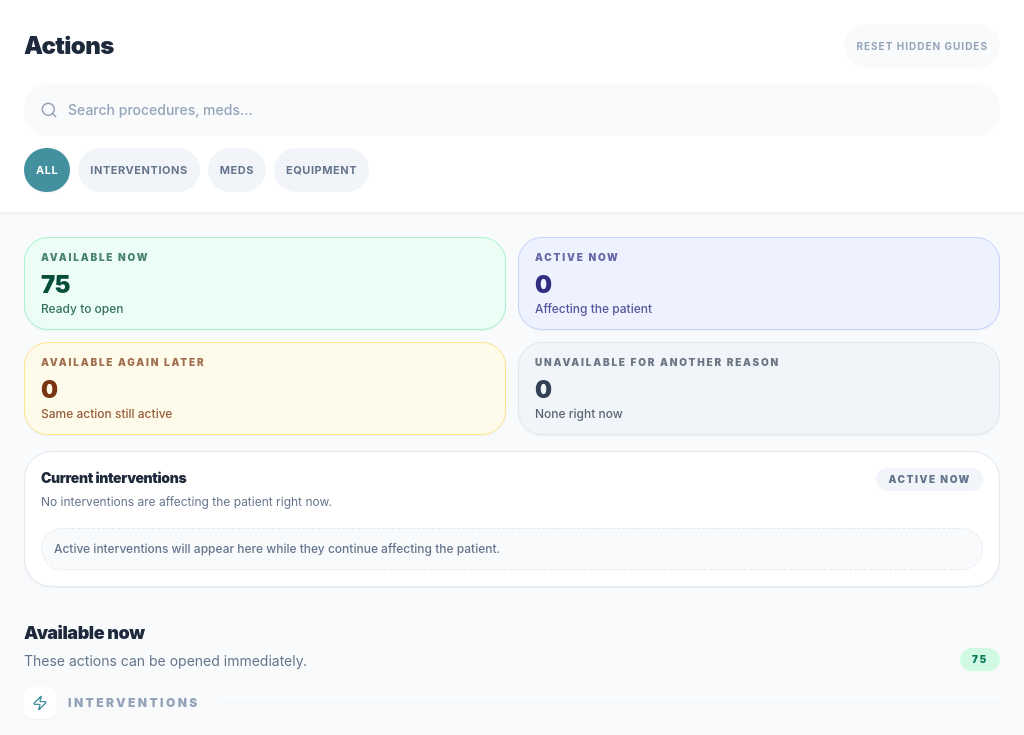
ActionsScreen › clicking "Clear Search" resets the filter
This screenshot has width=1024, height=735.
Type "xyznonexistent12345" into the field with placeholder "Search procedures, meds..." at (512, 110), box [24,84,1000,136]
(page scrolled)
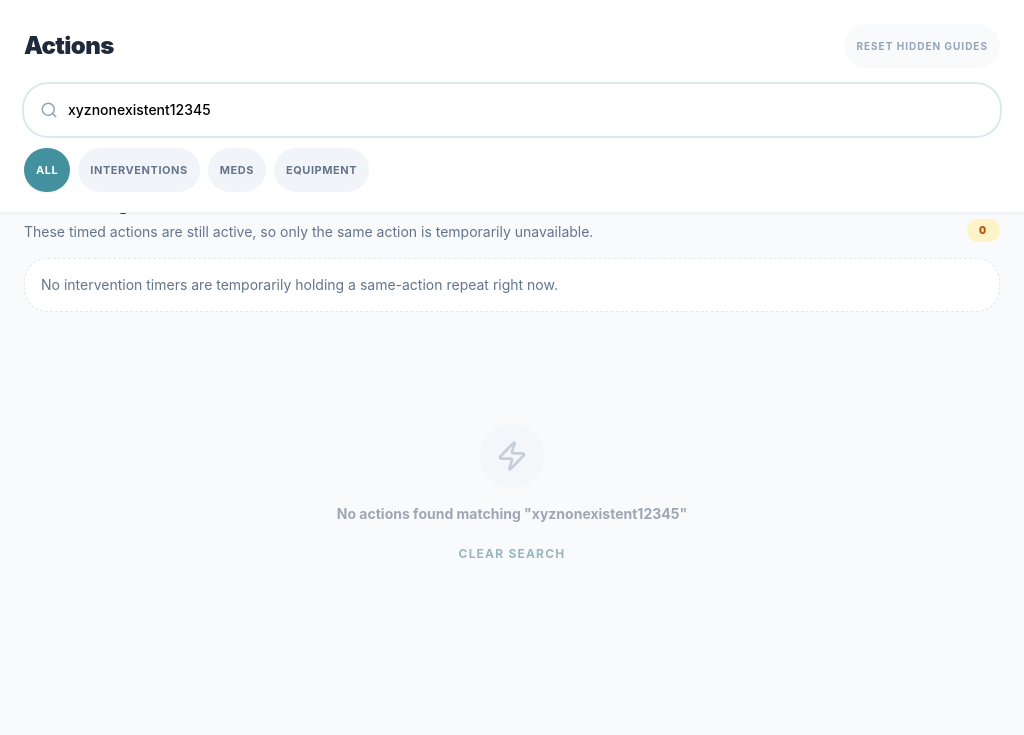
Click the button "Clear Search" at (512, 554), box [459,532,566,576]
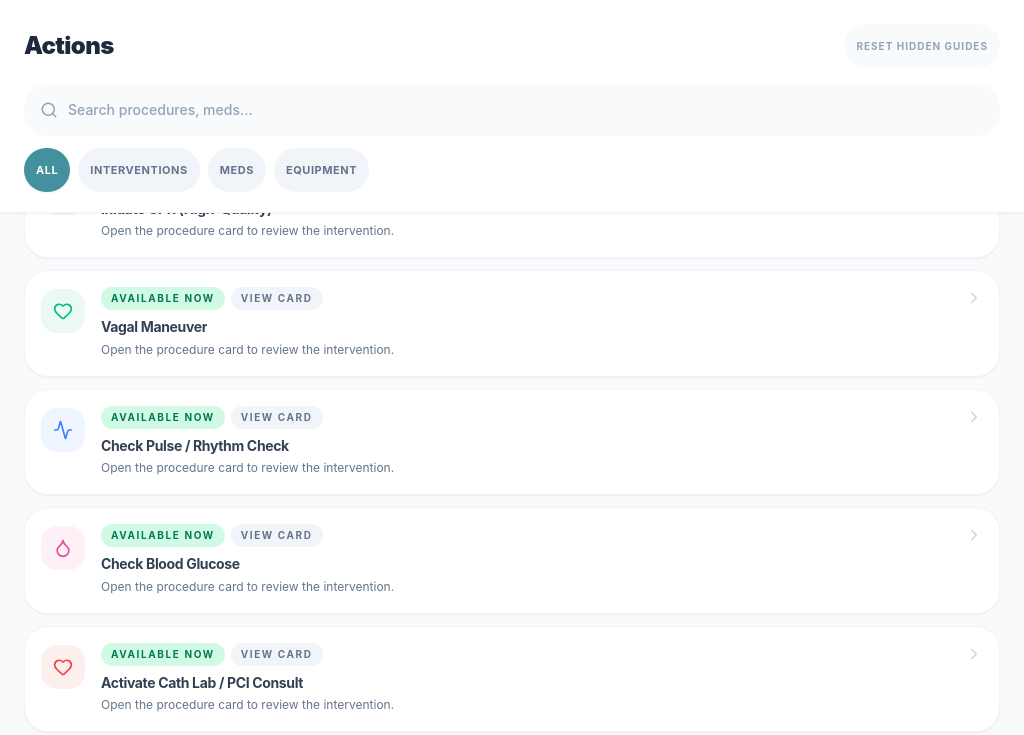
Expected: the text "Initiate CPR (High-Quality)" is shown, [101,200,272,217]
